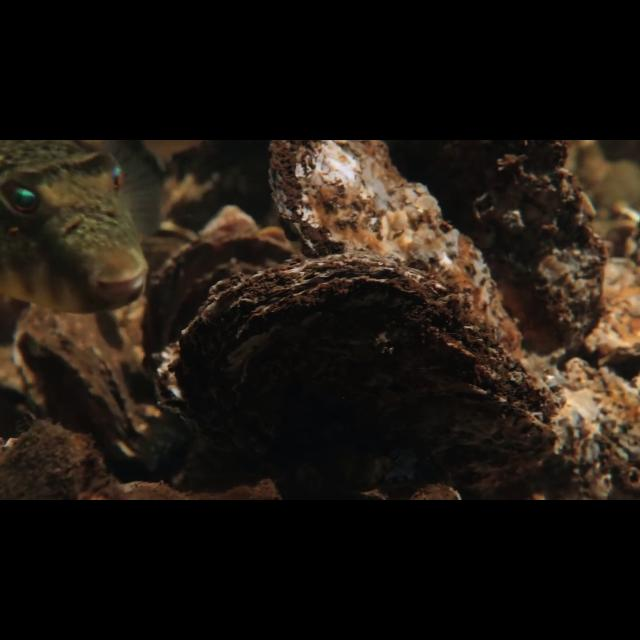Oyster-Closed: (174, 250, 555, 484), (262, 142, 524, 351), (470, 153, 608, 379), (20, 329, 150, 466), (536, 358, 640, 500)
Oyster-Open: (137, 230, 295, 360)
